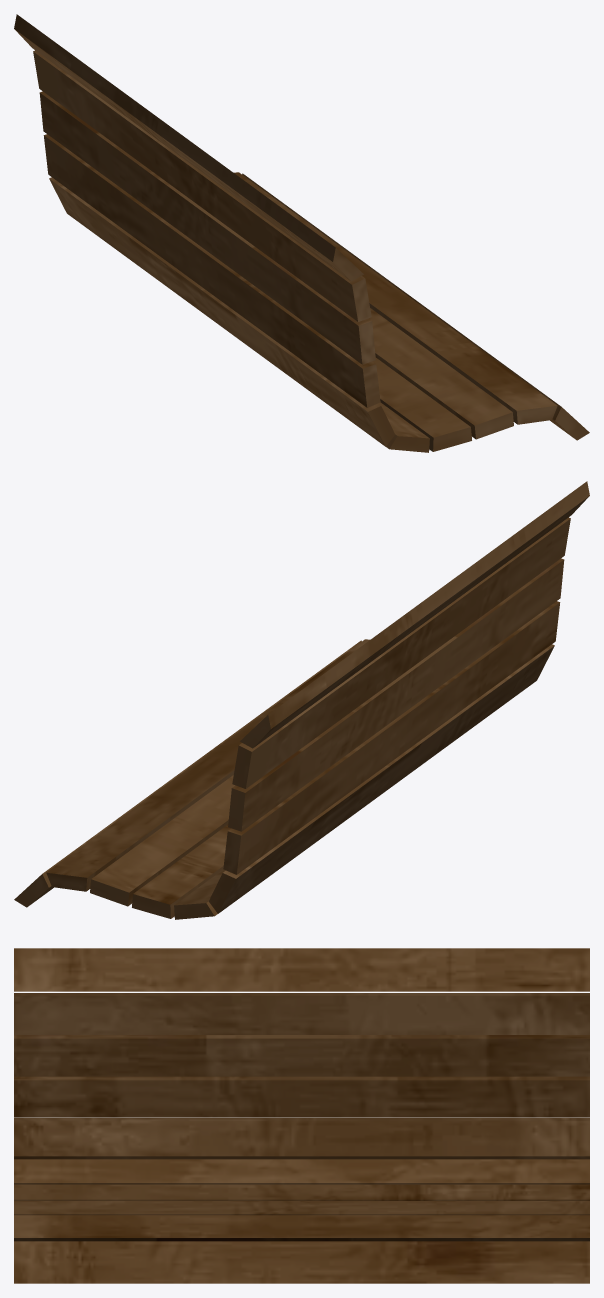
Rendered from strProp_20.glb.
3 renders of one model, top to bottom at view 1: azimuth 30°, elevation 25°; view 2: azimuth 150°, elevation 25°; view 3: azimuth 270°, elevation 25°, orthographic. The views are drawn at different scales.
Parts seen in each view (by area): view 1: geometry_0; view 2: geometry_0; view 3: geometry_0.
Part boxes in pixels (x1=…): geometry_0: x1=14, y1=14, x2=589, y2=452; geometry_0: x1=14, y1=481, x2=589, y2=919; geometry_0: x1=14, y1=948, x2=589, y2=1283.
Bounding box in the file's own units: 0.6229 × 0.5836 × 1.34.
1 material, 1 textured.
